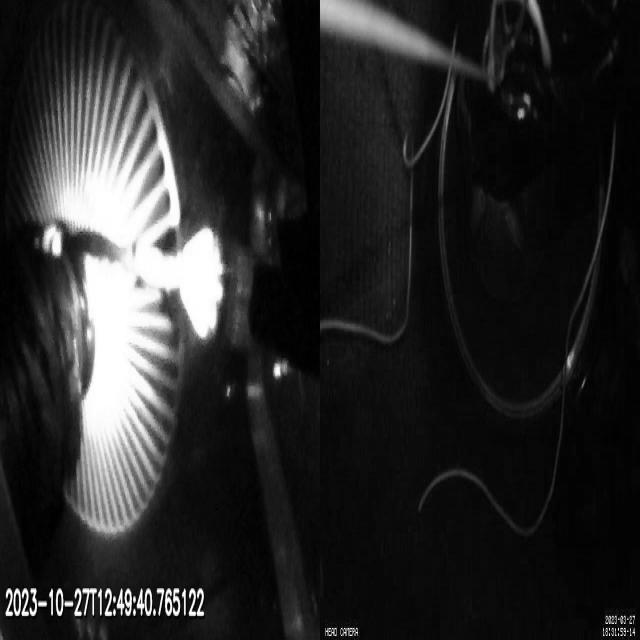head: (180, 229, 258, 358)
